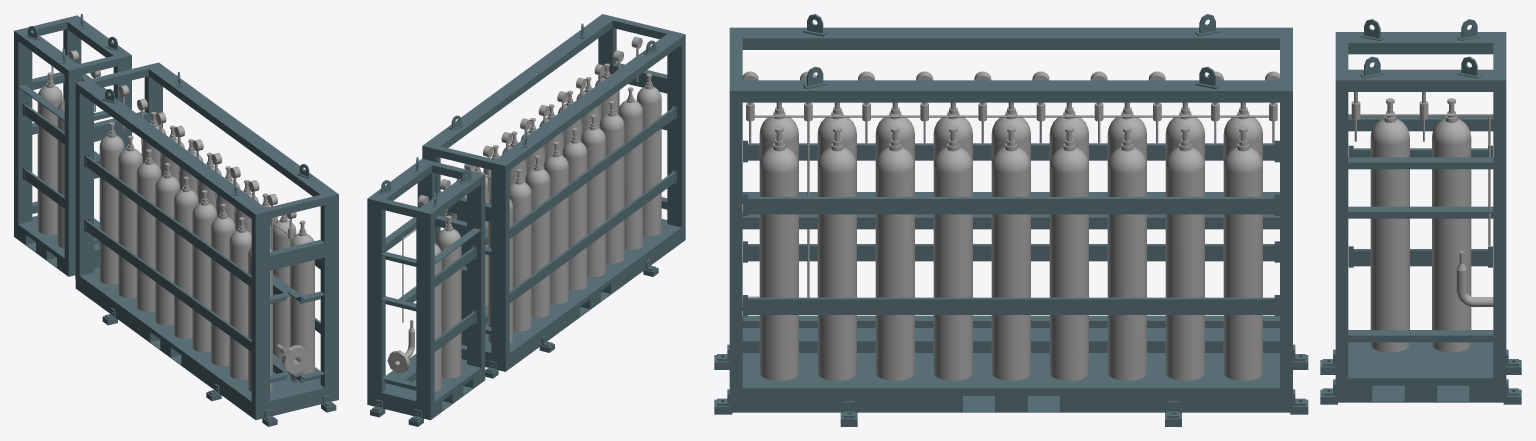
The model's file is Zone_P2_Eqp_Process_16.fbx.
The picture shows the model from 3 angles, left to right: view 1: azimuth 30°, elevation 25°; view 2: azimuth 150°, elevation 25°; view 3: azimuth 270°, elevation 25°; orthographic projection. The views are drawn at different scales.
Visible parts, largest first — view 1: EQP_Process_016_ST_01, EQP_Process_016_Bottles_01, EQP_Process_016_Mano_01; view 2: EQP_Process_016_ST_01, EQP_Process_016_Bottles_01, EQP_Process_016_Mano_01; view 3: EQP_Process_016_ST_01, EQP_Process_016_Bottles_01, EQP_Process_016_Mano_01.
Boxes of the visible parts, <box> form: EQP_Process_016_ST_01: <box>14,14,338,426</box>; EQP_Process_016_Bottles_01: <box>37,72,314,391</box>; EQP_Process_016_Mano_01: <box>51,50,309,373</box>; EQP_Process_016_ST_01: <box>367,14,685,426</box>; EQP_Process_016_Bottles_01: <box>434,63,661,391</box>; EQP_Process_016_Mano_01: <box>387,36,642,373</box>; EQP_Process_016_ST_01: <box>714,14,1521,426</box>; EQP_Process_016_Bottles_01: <box>759,98,1471,380</box>; EQP_Process_016_Mano_01: <box>742,71,1493,310</box>.
Size of the model in its own units: 106 by 225 by 473.
